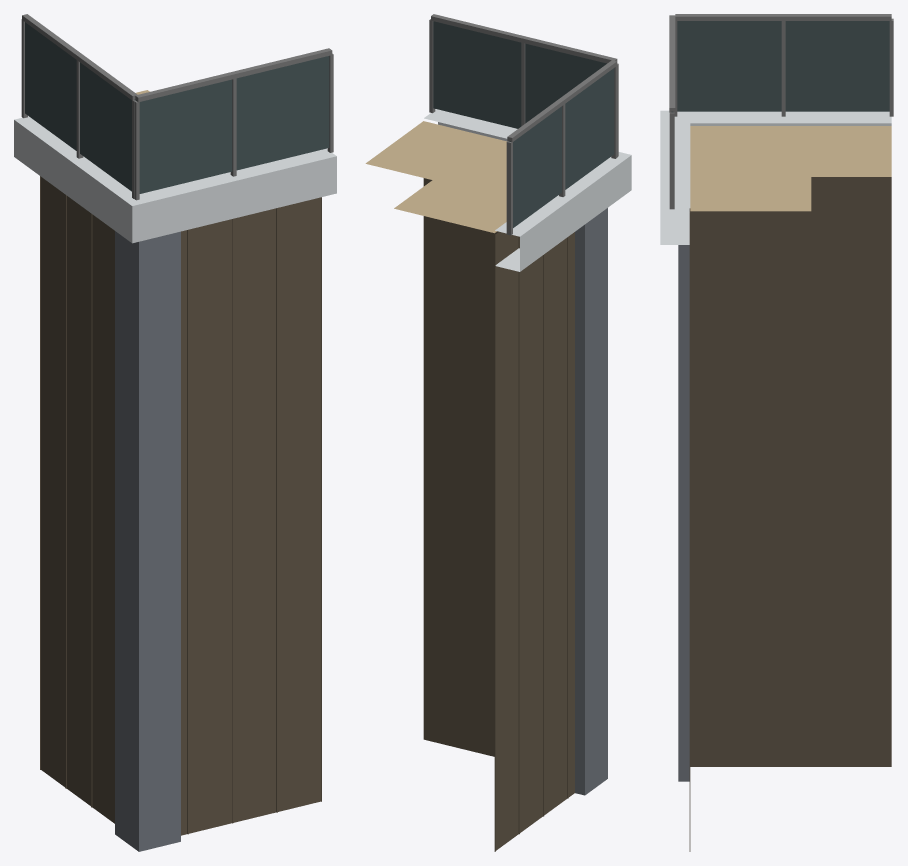
Rendered from base-c1_close.fbx.
3 views of the same model, side by side, from view 1: azimuth 30°, elevation 25°; view 2: azimuth 150°, elevation 25°; view 3: azimuth 270°, elevation 25° (orthographic). The views are drawn at different scales.
Visible parts, largest first — view 1: a2010/0/base-c1_close; view 2: a2010/0/base-c1_close; view 3: a2010/0/base-c1_close.
Part boxes in pixels (x1,y1,x2,y2): a2010/0/base-c1_close: (14,14,336,851); a2010/0/base-c1_close: (365,14,631,851); a2010/0/base-c1_close: (660,14,893,851).
Size of the model in its own units: 2.32 by 8.15 by 2.32.
